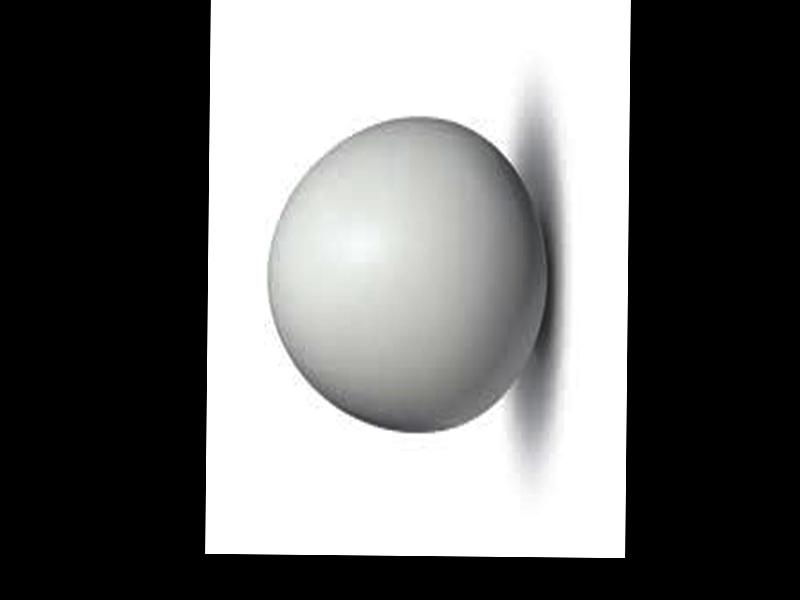Eggs: (264, 117, 547, 428)
